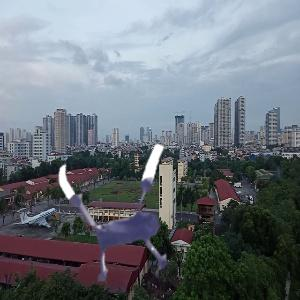drone: (44, 131, 214, 300)
